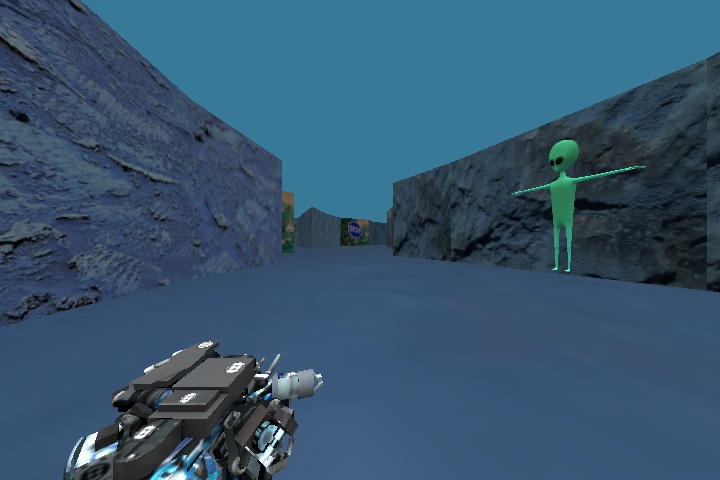green_alien: (510, 142, 636, 283)
stop_sign: (342, 217, 361, 237)
